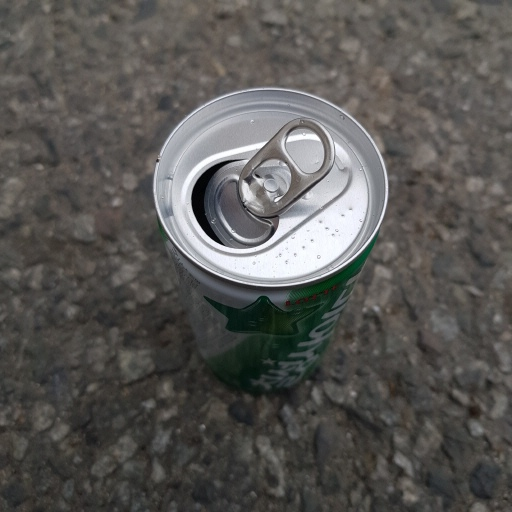Metal_0: (155, 82, 390, 395)
